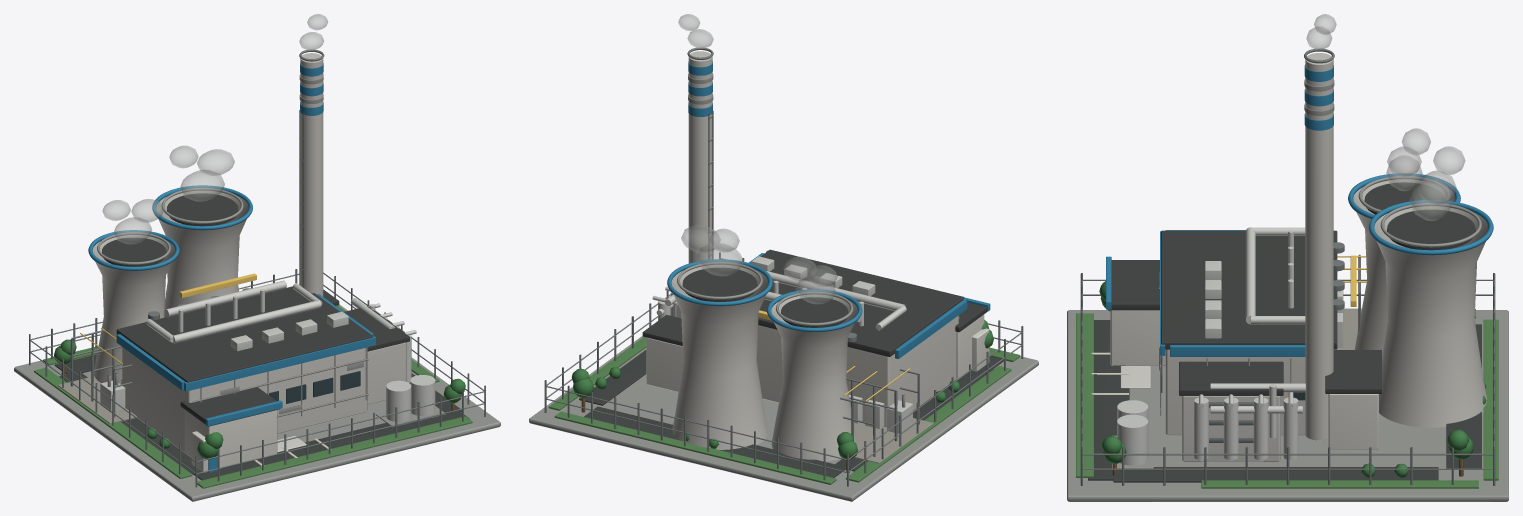
The model's file is power_plant.glb.
3 renders of one model, left to right at view 1: azimuth 30°, elevation 25°; view 2: azimuth 150°, elevation 25°; view 3: azimuth 270°, elevation 25°, orthographic. The views are drawn at different scales.
Visible parts, largest first — view 1: main_turbine_hall_black_flat_roof, main_turbine_hall_long_concrete_volume, reference_campus_concrete_plinth, rear_center_cooling_tower, wide_left_cooling_tower, tall_reference_smokestack_concrete, front_control_annex_box, front_landscape_strip, perimeter_road_front, right_machine_annex_block, rear_center_cooling_tower_black_open_basin, main_front_blue_cornice_band (+22 smaller); view 2: rear_center_cooling_tower, reference_campus_concrete_plinth, wide_left_cooling_tower, main_turbine_hall_long_concrete_volume, main_turbine_hall_black_flat_roof, tall_reference_smokestack_concrete, perimeter_road_back, rear_landscape_strip, rear_center_cooling_tower_black_open_basin, rear_pipe_gallery_block, left_landscape_strip, left_substation_gravel_yard (+21 smaller); view 3: reference_campus_concrete_plinth, rear_center_cooling_tower, main_turbine_hall_black_flat_roof, tall_reference_smokestack_concrete, perimeter_road_right_leg, wide_left_cooling_tower, right_machine_annex_roof, perimeter_road_front, right_machine_annex_block, rear_pipe_gallery_block, front_control_annex_box, main_turbine_hall_long_concrete_volume (+32 smaller).
Part boxes in pixels (bbox=[...]): main_turbine_hall_black_flat_roof: bbox=[116, 286, 373, 382]; main_turbine_hall_long_concrete_volume: bbox=[122, 347, 367, 451]; reference_campus_concrete_plinth: bbox=[14, 304, 500, 501]; rear_center_cooling_tower: bbox=[156, 190, 248, 317]; wide_left_cooling_tower: bbox=[92, 235, 175, 384]; tall_reference_smokestack_concrete: bbox=[300, 53, 323, 296]; front_control_annex_box: bbox=[184, 409, 277, 467]; front_landscape_strip: bbox=[197, 416, 472, 488]; perimeter_road_front: bbox=[190, 411, 469, 480]; right_machine_annex_block: bbox=[367, 342, 406, 404]; rear_center_cooling_tower_black_open_basin: bbox=[167, 193, 238, 226]; main_front_blue_cornice_band: bbox=[184, 336, 375, 391]; rear_center_cooling_tower: bbox=[671, 264, 768, 449]; reference_campus_concrete_plinth: bbox=[529, 336, 1038, 501]; wide_left_cooling_tower: bbox=[771, 294, 857, 461]; main_turbine_hall_long_concrete_volume: bbox=[756, 315, 958, 427]; main_turbine_hall_black_flat_roof: bbox=[751, 249, 964, 356]; tall_reference_smokestack_concrete: bbox=[688, 51, 712, 263]; perimeter_road_back: bbox=[584, 406, 845, 477]; rear_landscape_strip: bbox=[554, 411, 836, 484]; rear_center_cooling_tower_black_open_basin: bbox=[682, 267, 757, 301]; rear_pipe_gallery_block: bbox=[646, 337, 683, 391]; left_landscape_strip: bbox=[845, 366, 1011, 482]; left_substation_gravel_yard: bbox=[853, 418, 933, 463]; reference_campus_concrete_plinth: bbox=[1067, 310, 1508, 501]; rear_center_cooling_tower: bbox=[1374, 206, 1488, 427]; main_turbine_hall_black_flat_roof: bbox=[1161, 230, 1337, 349]; tall_reference_smokestack_concrete: bbox=[1305, 53, 1333, 440]; perimeter_road_right_leg: bbox=[1113, 467, 1438, 482]; wide_left_cooling_tower: bbox=[1353, 179, 1455, 358]; right_machine_annex_roof: bbox=[1179, 361, 1283, 395]; perimeter_road_front: bbox=[1088, 320, 1129, 480]; right_machine_annex_block: bbox=[1182, 396, 1280, 461]; rear_pipe_gallery_block: bbox=[1328, 394, 1378, 449]; front_control_annex_box: bbox=[1110, 310, 1165, 365]; main_turbine_hall_long_concrete_volume: bbox=[1165, 349, 1305, 435].
Bounding box in the file's own units: 2.96 × 3.24 × 2.96.
